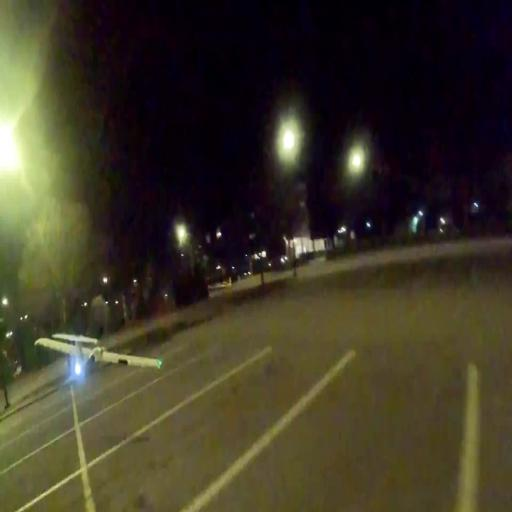uav: (28, 327, 160, 390)
